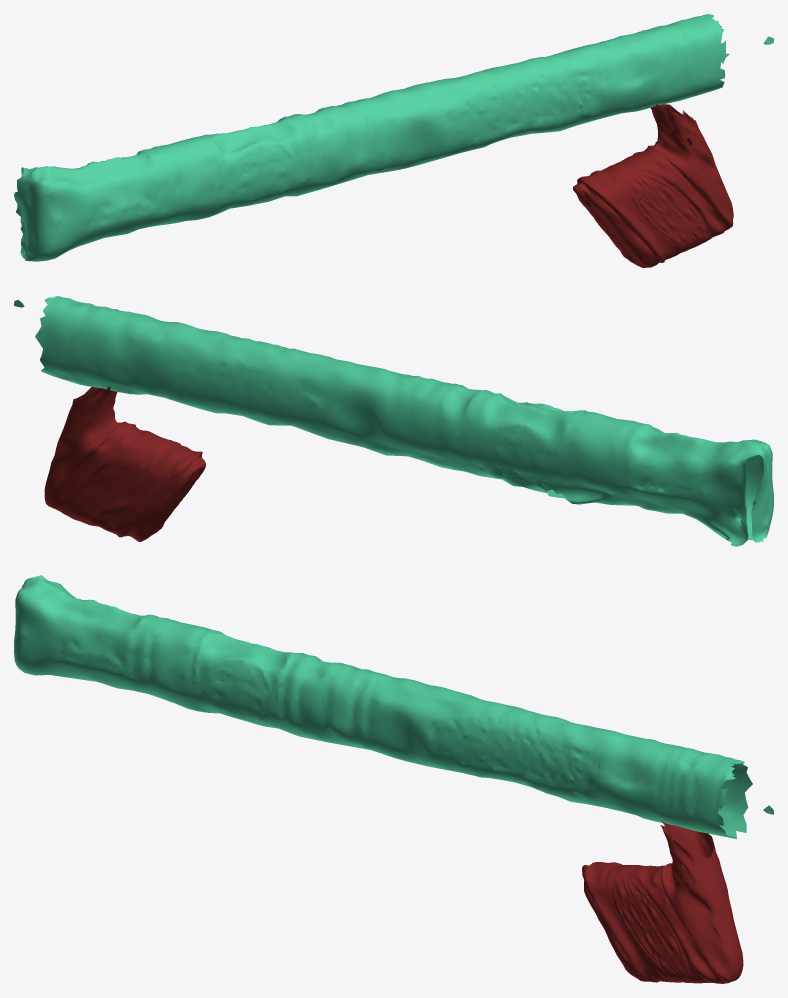
The model's file is object_deformed_1.obj.
3 views of the same model, one above another, from view 1: azimuth 30°, elevation 25°; view 2: azimuth 150°, elevation 25°; view 3: azimuth 330°, elevation 25° (orthographic). The views are drawn at different scales.
Size of the model in its own units: 0.4401 by 0.1375 by 0.0372.
